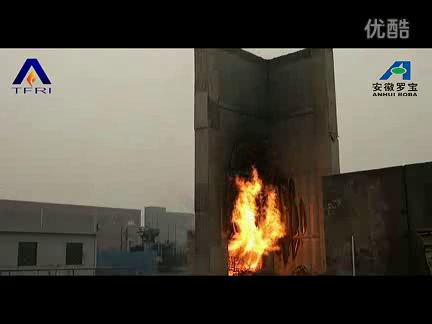fire: (225, 169, 290, 274)
